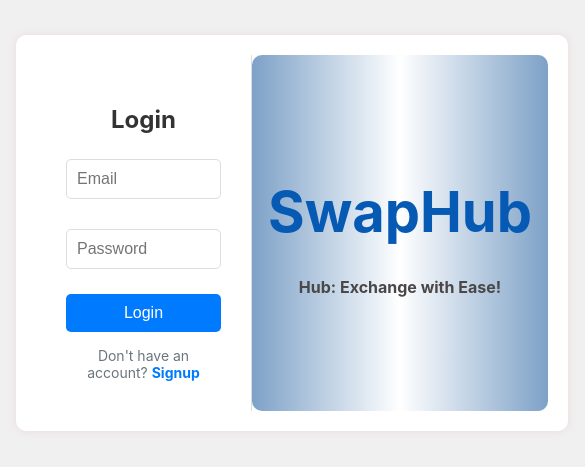
Test: displays_invalid_email_error_when_email_is_invalid
In the field with placeholder "Email": (144, 179) [66,159,221,199], type "invalid_email"
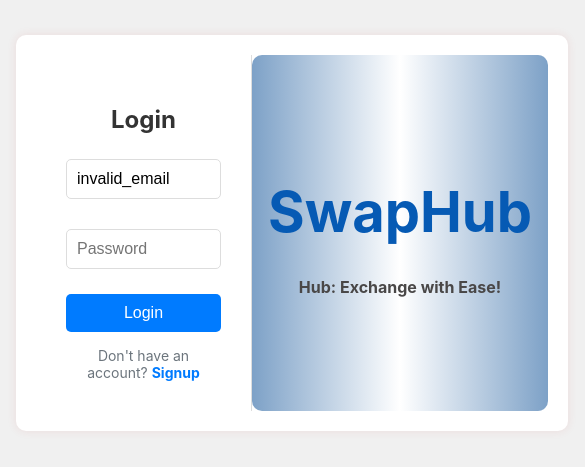
Click the button "Login": click(144, 313) [66,294,221,332]
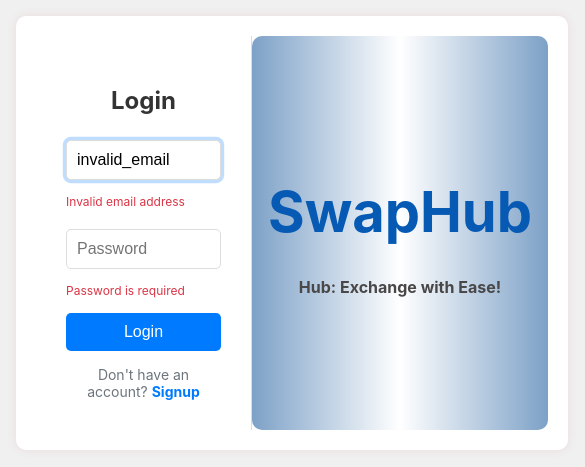
Expected: the text "Invalid email address" is shown, [66,194,185,209]
